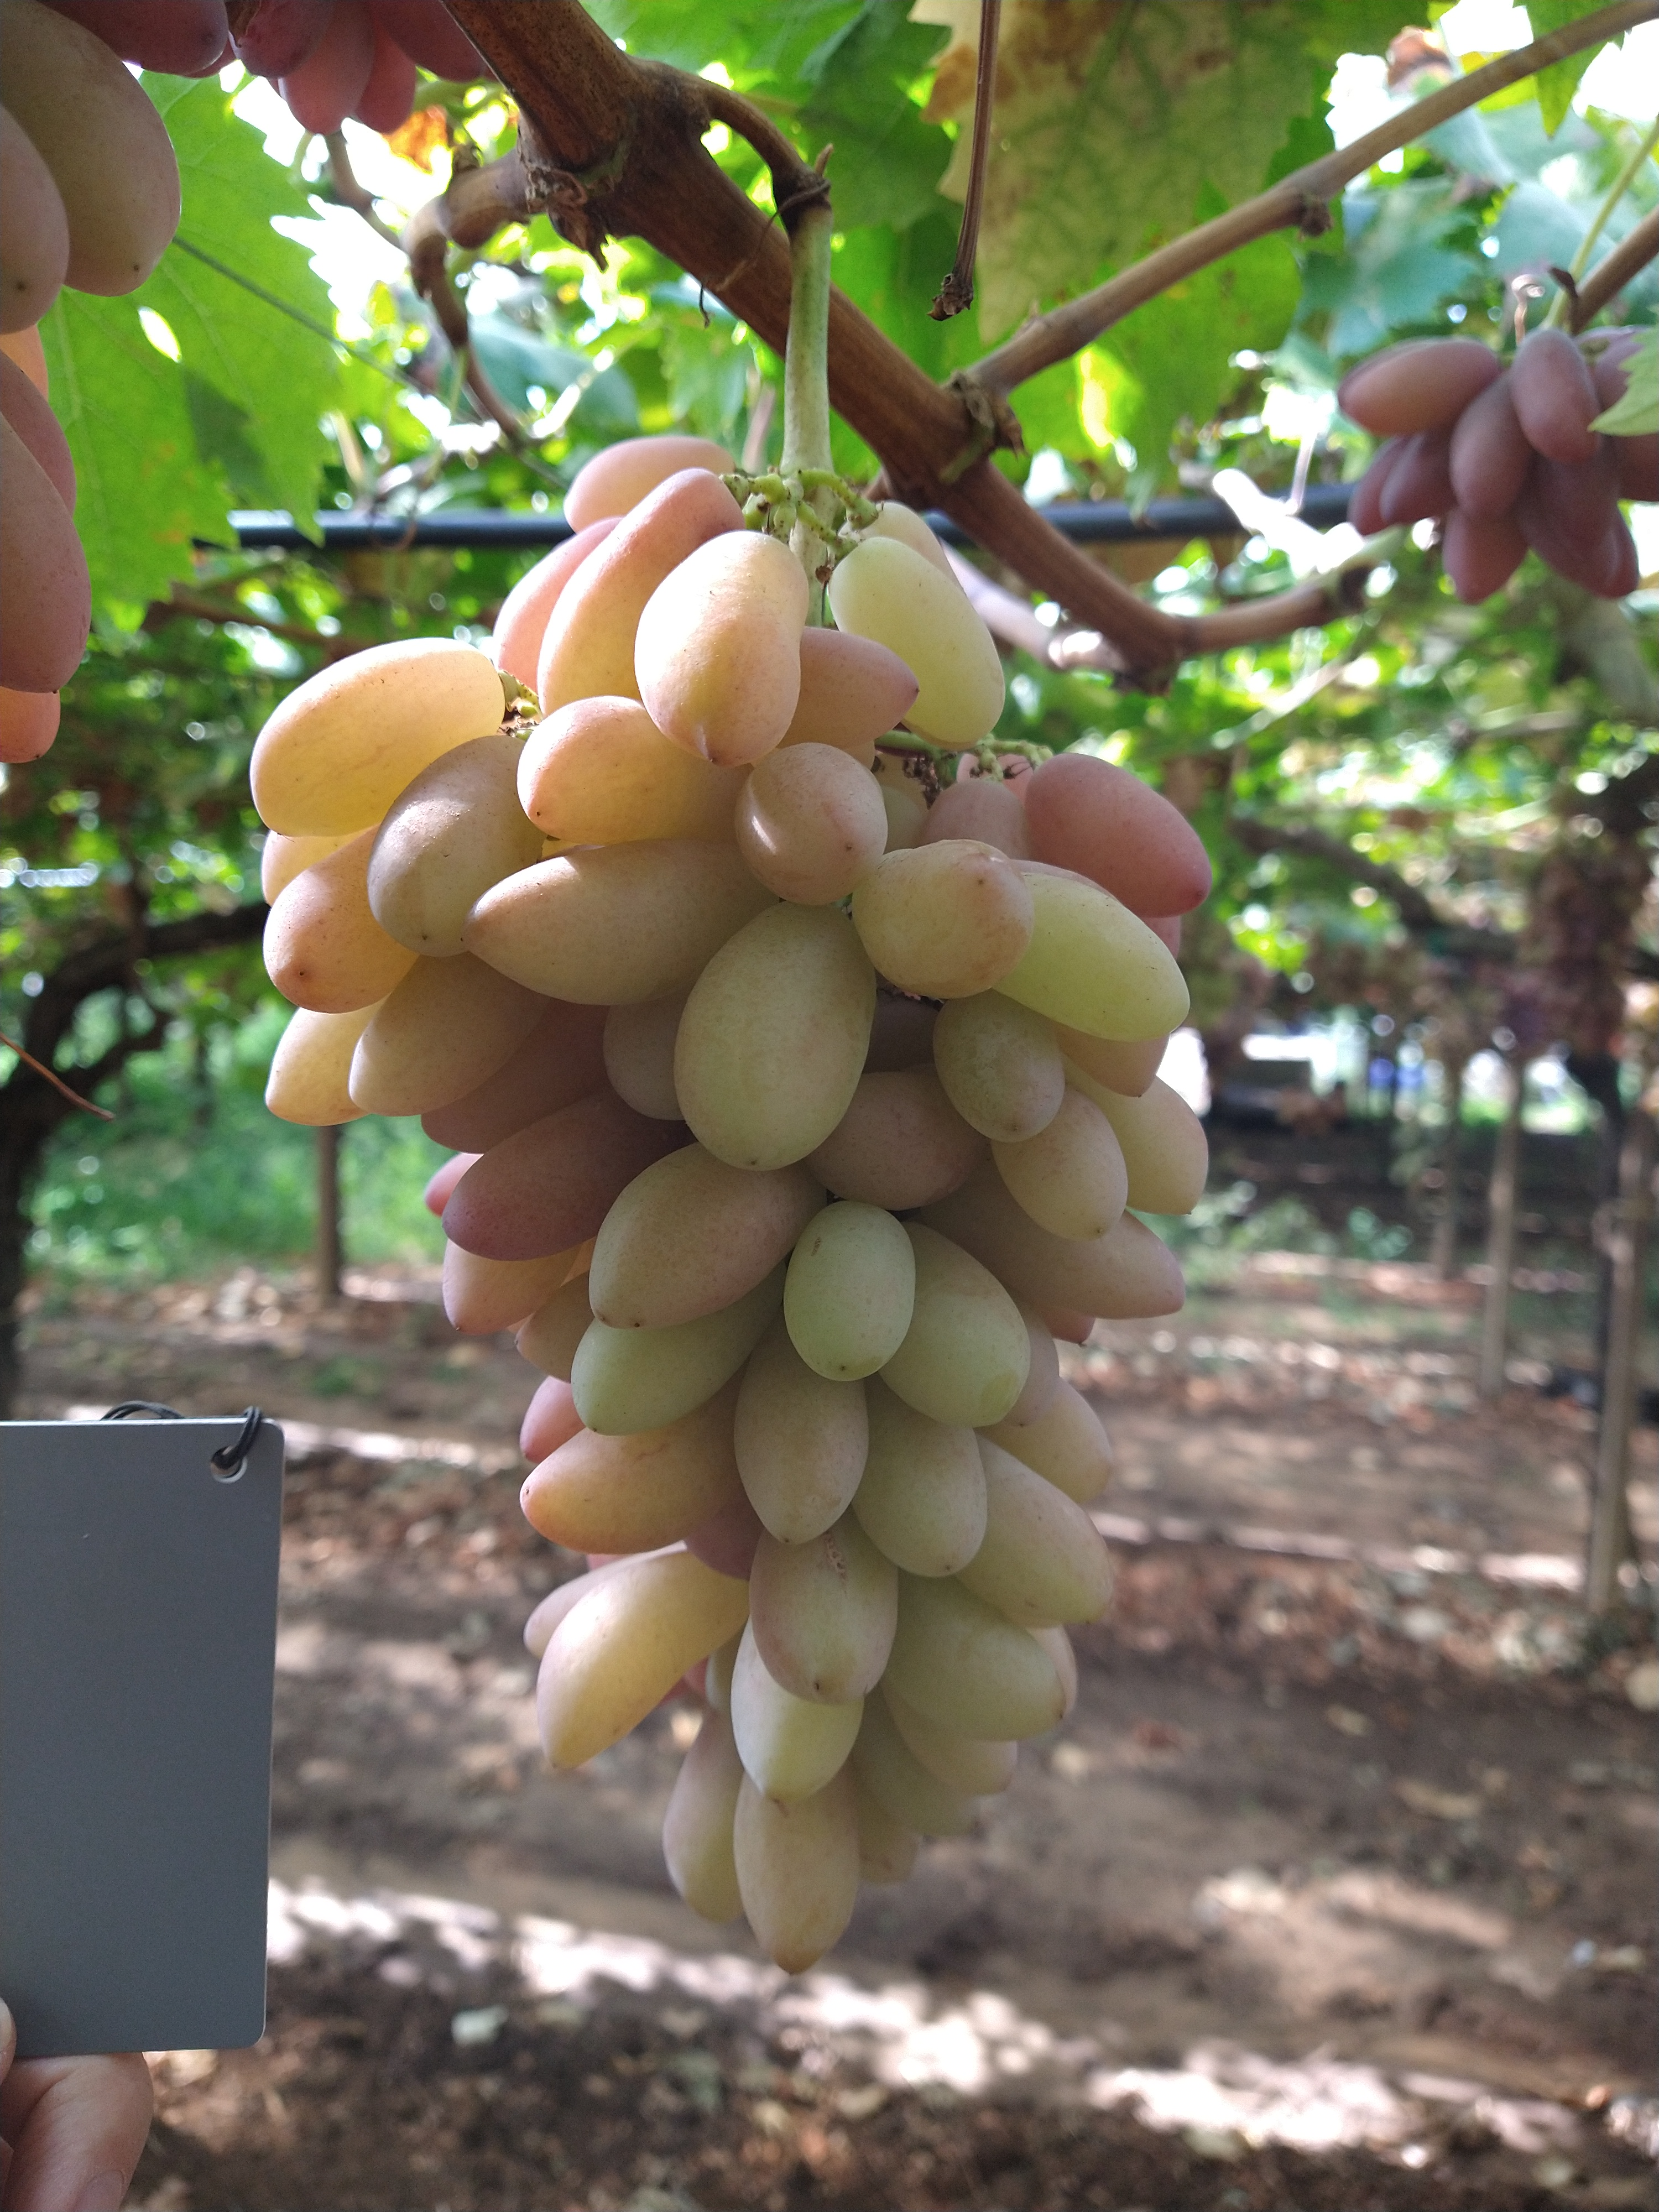acino: (674, 904, 880, 1172), (249, 636, 512, 838), (458, 843, 779, 1008), (533, 469, 748, 716), (535, 1554, 748, 1775), (587, 1141, 828, 1331), (633, 529, 812, 765), (366, 732, 545, 960), (826, 533, 1007, 751), (443, 1092, 673, 1261), (570, 1263, 782, 1437), (1012, 855, 1190, 1045), (730, 1317, 873, 1550), (1023, 751, 1213, 918), (880, 1219, 1030, 1430), (518, 1407, 727, 1555), (347, 963, 545, 1116), (899, 1571, 1070, 1745), (748, 1510, 901, 1703), (518, 697, 720, 843), (854, 834, 1033, 998), (802, 1055, 985, 1209), (849, 1383, 986, 1576), (734, 740, 890, 906), (420, 1012, 599, 1157), (730, 1620, 868, 1803), (263, 841, 408, 1012), (988, 1442, 1117, 1632), (784, 1198, 917, 1383), (732, 1797, 864, 1977), (992, 1085, 1133, 1242), (932, 995, 1066, 1146), (660, 1709, 739, 1923), (1026, 1221, 1183, 1318), (798, 624, 918, 749), (437, 1240, 587, 1336), (263, 1014, 364, 1129), (1133, 1073, 1209, 1216), (1032, 1376, 1115, 1505), (601, 1010, 681, 1125), (904, 1747, 1016, 1799)
